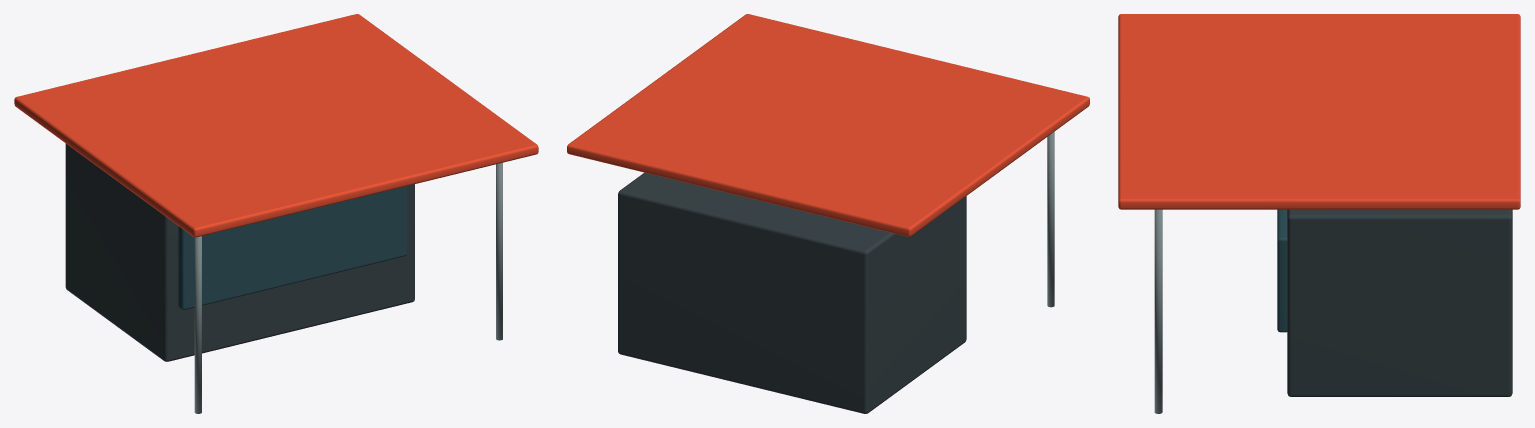
The model's file is market_kiosk.glb.
3 views of the same model, side by side, from view 1: azimuth 30°, elevation 25°; view 2: azimuth 150°, elevation 25°; view 3: azimuth 270°, elevation 25° (orthographic). The views are drawn at different scales.
Visible parts, largest first — view 1: market_kiosk; view 2: market_kiosk; view 3: market_kiosk.
Boxes of the visible parts, x1=… form: market_kiosk: x1=14, y1=14, x2=538, y2=413; market_kiosk: x1=567, y1=14, x2=1089, y2=413; market_kiosk: x1=1118, y1=14, x2=1520, y2=413.
Bounding box in the file's own units: 5.5 × 3.08 × 5.
